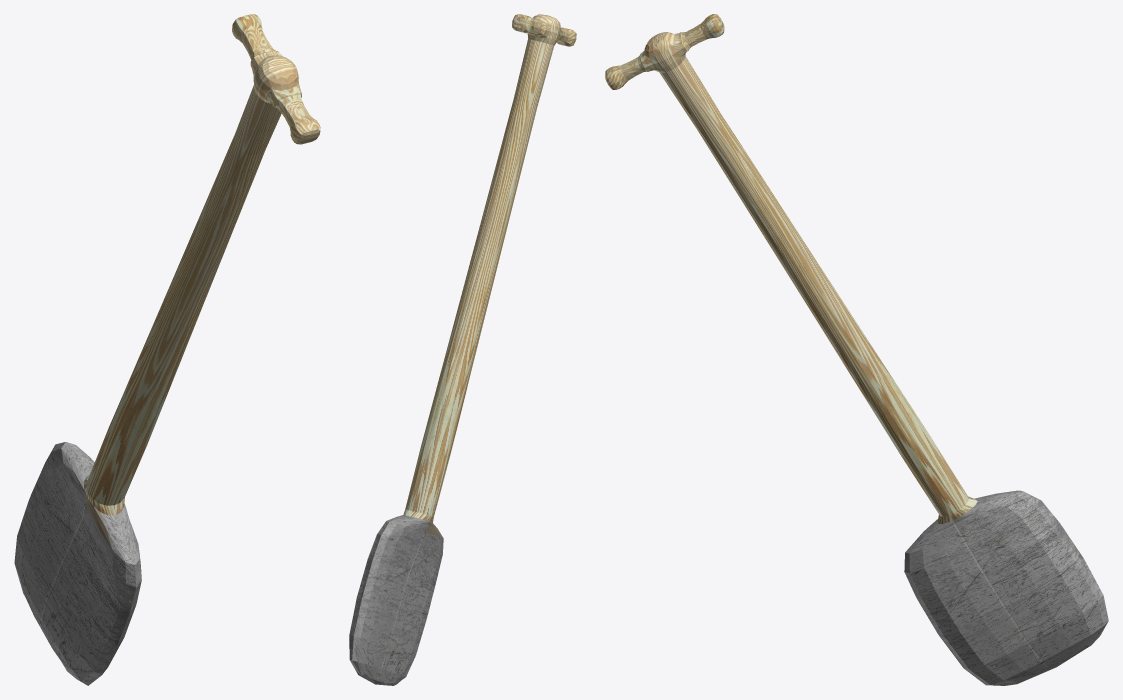
The model's file is shovel.obj.
3 renders of one model, left to right at view 1: azimuth 30°, elevation 25°; view 2: azimuth 150°, elevation 25°; view 3: azimuth 270°, elevation 25°, orthographic. The views are drawn at different scales.
Visible parts, largest first — view 1: Icosphere; view 2: Icosphere; view 3: Icosphere.
Part boxes in pixels (box(x1,y1,x2,y2)): Icosphere: box(14, 14, 320, 685); Icosphere: box(349, 14, 576, 685); Icosphere: box(605, 14, 1108, 685).
Bounding box in the file's own units: 0.0296 × 0.5088 × 0.3469.
